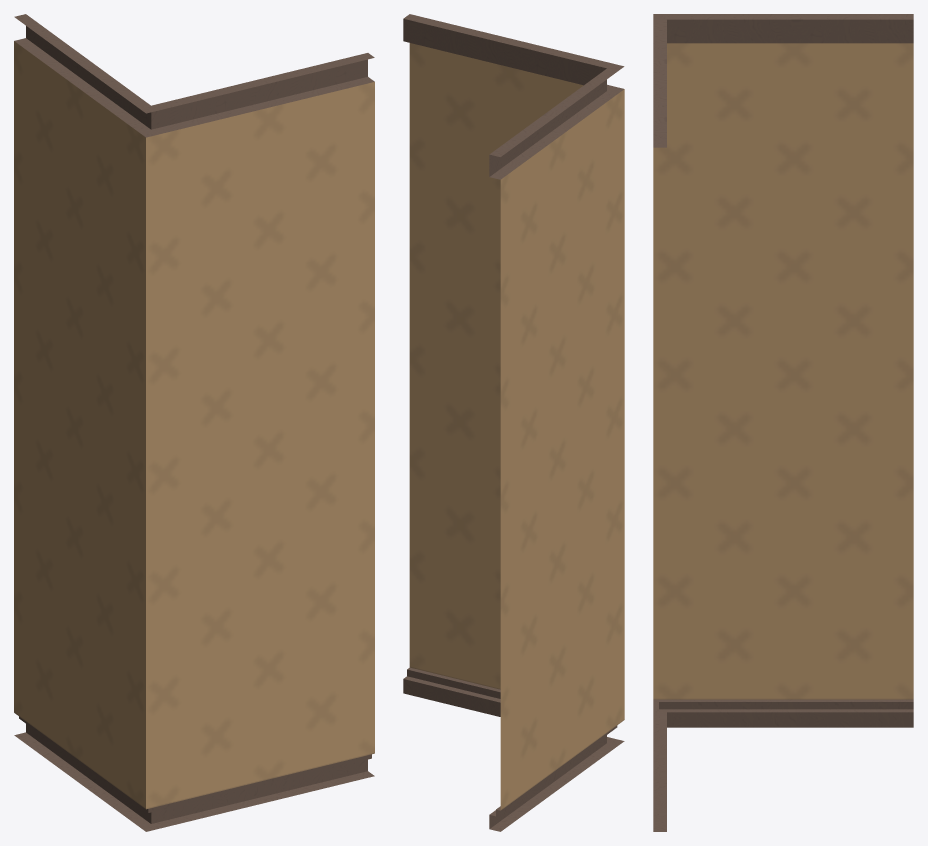
File: Wall Room Corner Concave.fbx
The picture shows the model from 3 angles, left to right: view 1: azimuth 30°, elevation 25°; view 2: azimuth 150°, elevation 25°; view 3: azimuth 270°, elevation 25°; orthographic projection. The views are drawn at different scales.
Parts seen in each view (by area): view 1: Wall Room Corner Concave.001; view 2: Wall Room Corner Concave.001; view 3: Wall Room Corner Concave.001.
Boxes of the visible parts, x1,y1,x2,y2 form: Wall Room Corner Concave.001: (14, 14, 374, 831); Wall Room Corner Concave.001: (403, 14, 624, 831); Wall Room Corner Concave.001: (653, 14, 913, 831).
Bounding box in the file's own units: 2 × 6 × 2.
